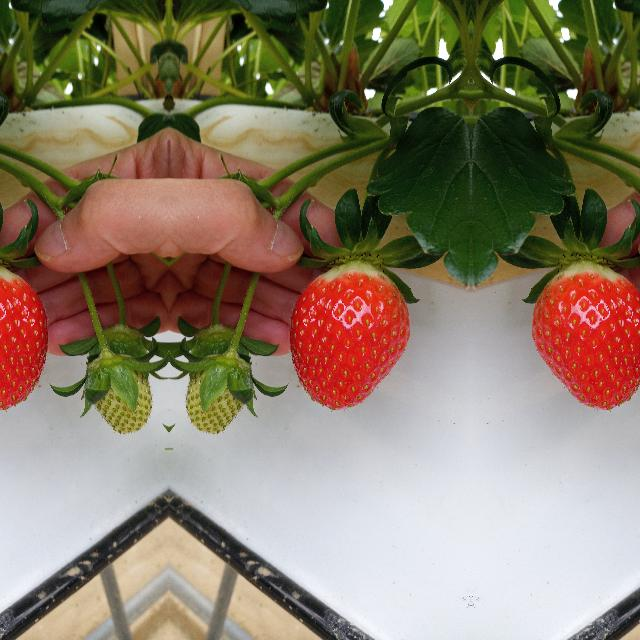Health_100: (287, 260, 409, 412), (532, 260, 640, 411), (0, 260, 49, 411)
Health_25: (176, 332, 260, 440), (76, 332, 160, 440)
